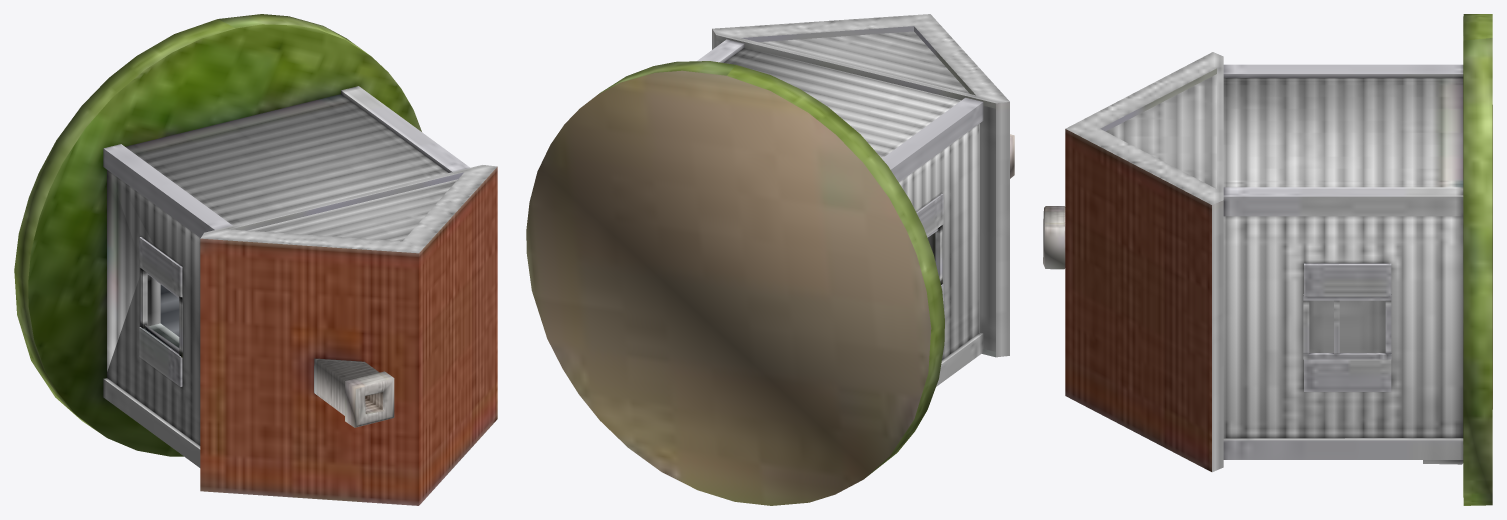
Rendered from house.fbx.
3 views of the same model, side by side, from view 1: azimuth 30°, elevation 25°; view 2: azimuth 150°, elevation 25°; view 3: azimuth 270°, elevation 25° (orthographic). The views are drawn at different scales.
Parts seen in each view (by area): view 1: 20960_Front_Gable_House_v1_NEW.001; view 2: 20960_Front_Gable_House_v1_NEW.001; view 3: 20960_Front_Gable_House_v1_NEW.001.
Part boxes in pixels (left/top/right/bottom): 20960_Front_Gable_House_v1_NEW.001: left=14, top=14, right=497, bottom=505; 20960_Front_Gable_House_v1_NEW.001: left=526, top=14, right=1014, bottom=505; 20960_Front_Gable_House_v1_NEW.001: left=1043, top=14, right=1492, bottom=505.
Size of the model in its own units: 998 by 999 by 912.
